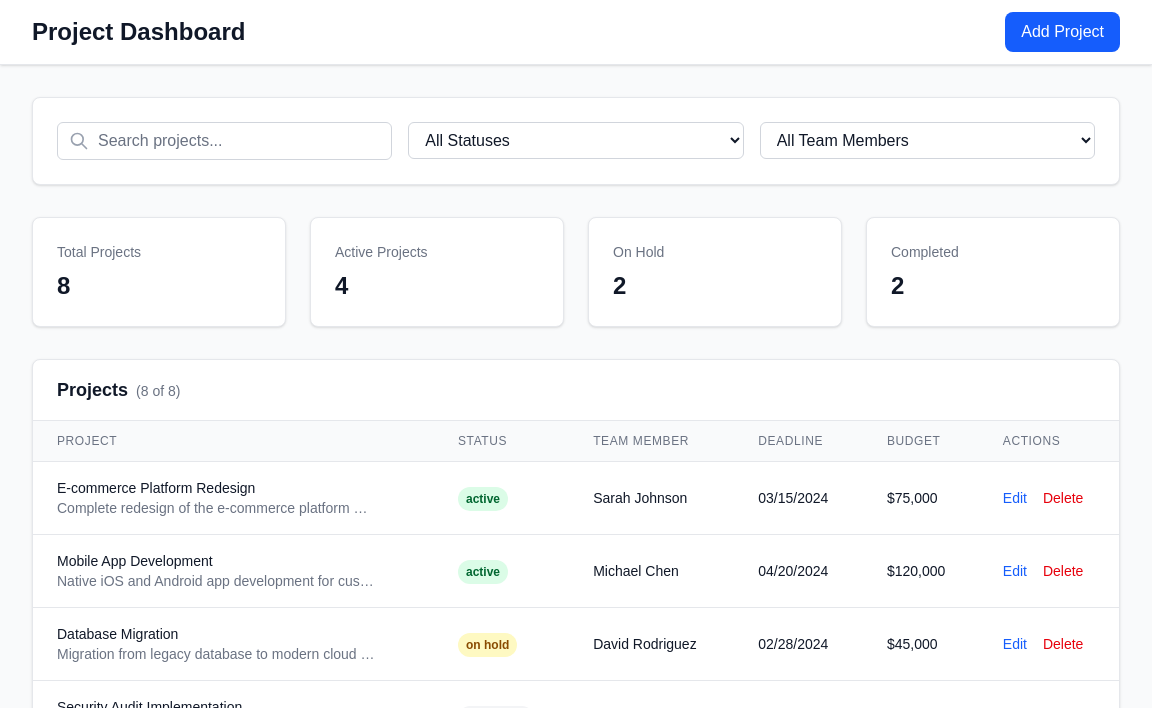
Test case: Dashboard Component › Search and Filter Functionality › should filter projects by status
Note: Filter by "active" status
Select "Active" in the 1st dropdown showing "All Statuses" at coordinates (576, 140), box [408, 122, 744, 159]
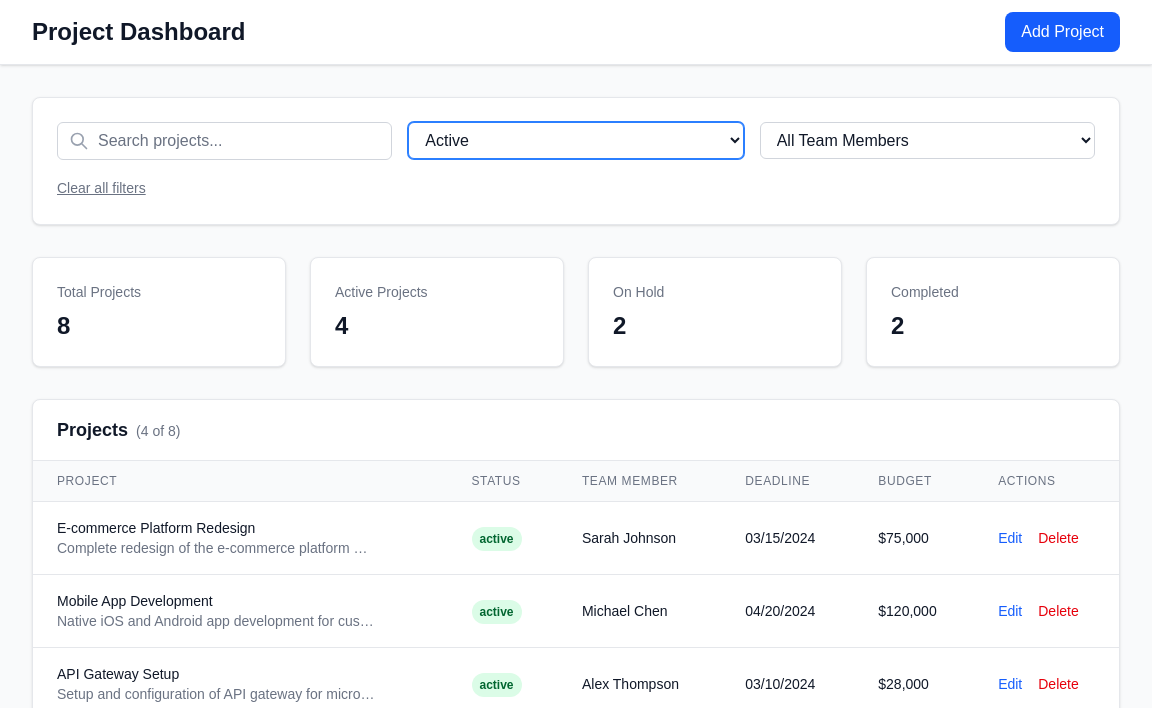
Check: the text "E-commerce Platform Redesign" is shown 2 times
Check: the text "API Gateway Setup" is shown 2 times
